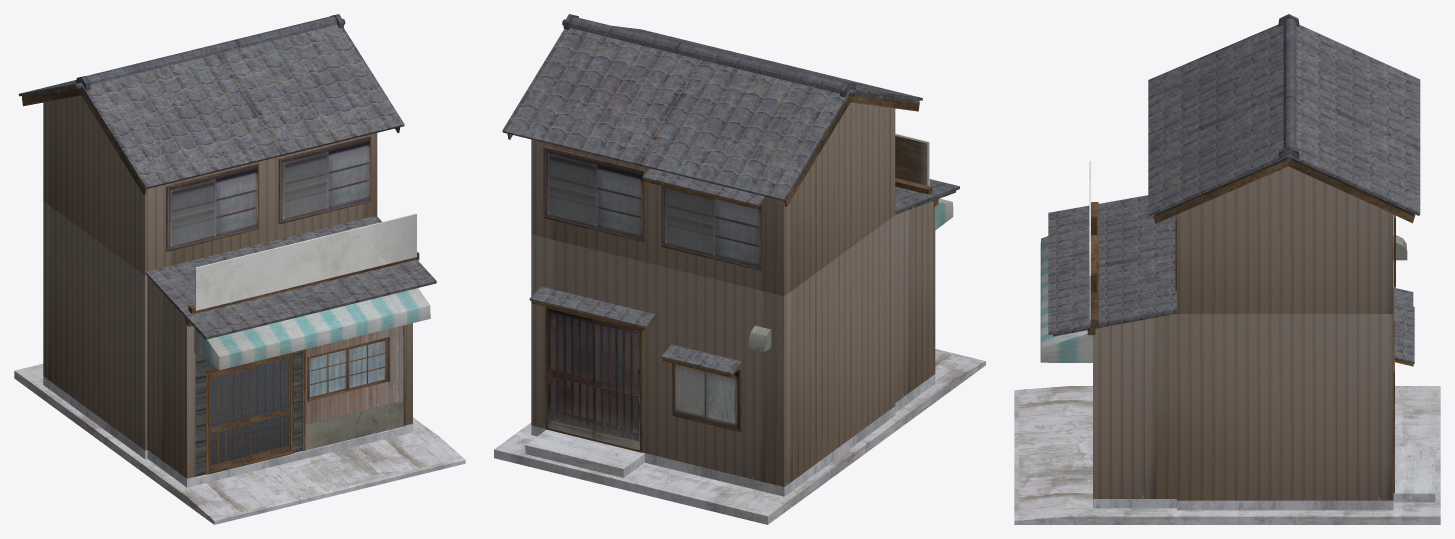
Rendered from house_shop_02k.fbx.
3 views of the same model, side by side, from view 1: azimuth 30°, elevation 25°; view 2: azimuth 150°, elevation 25°; view 3: azimuth 270°, elevation 25° (orthographic). The views are drawn at different scales.
Visible parts, largest first — view 1: house_shop_02k; view 2: house_shop_02k; view 3: house_shop_02k.
Boxes of the visible parts, x1,y1,x2,y2 form: house_shop_02k: [14, 14, 465, 524]; house_shop_02k: [494, 14, 985, 524]; house_shop_02k: [1014, 14, 1440, 524].
Bounding box in the file's own units: 658 × 849 × 831.
9 materials, 9 textured.
